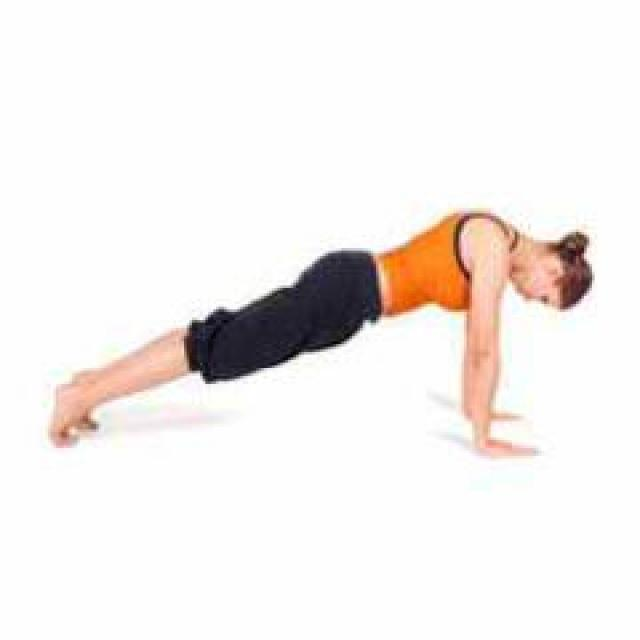yoga-pose plank: (51, 210, 600, 460)
